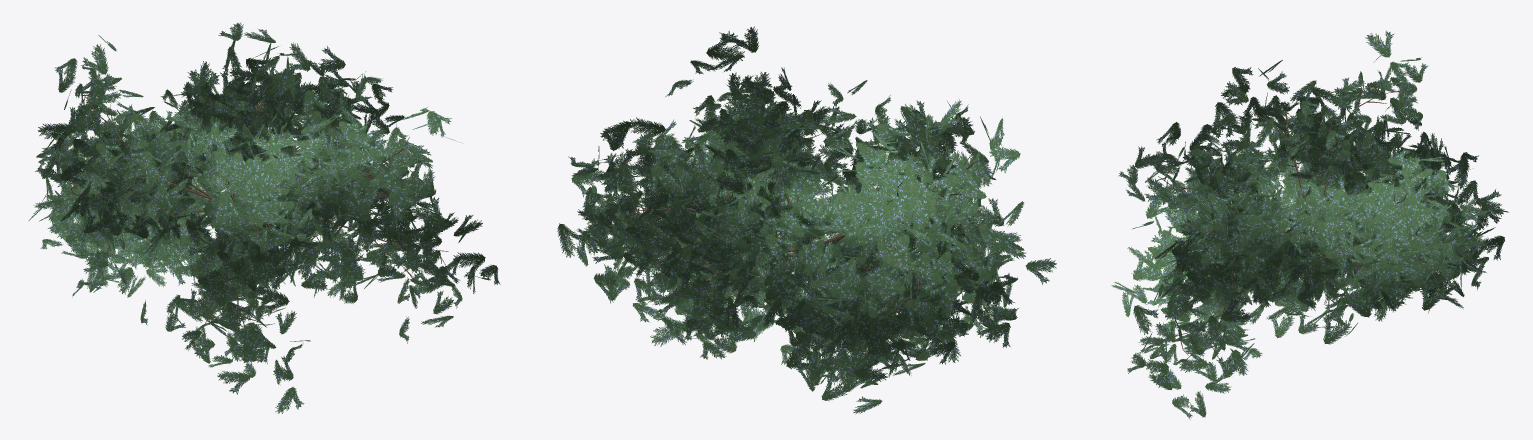
Rendered from RM3_Rosemary_Cascading_0.45m.glb.
3 views of the same model, side by side, from view 1: azimuth 30°, elevation 25°; view 2: azimuth 150°, elevation 25°; view 3: azimuth 270°, elevation 25° (orthographic). The views are drawn at different scales.
Visible parts, largest first — view 1: RM3_leaves, RM3_wood; view 2: RM3_leaves, RM3_wood; view 3: RM3_leaves, RM3_wood.
Boxes of the visible parts, x1,y1,x2,y2 form: RM3_leaves: [28, 22, 500, 413]; RM3_wood: [65, 68, 448, 331]; RM3_leaves: [557, 26, 1056, 414]; RM3_wood: [611, 80, 983, 356]; RM3_leaves: [1111, 30, 1508, 419]; RM3_wood: [1158, 78, 1456, 359].
Size of the model in its own units: 0.9626 by 0.7668 by 0.9381.
2 materials, 2 textured.
